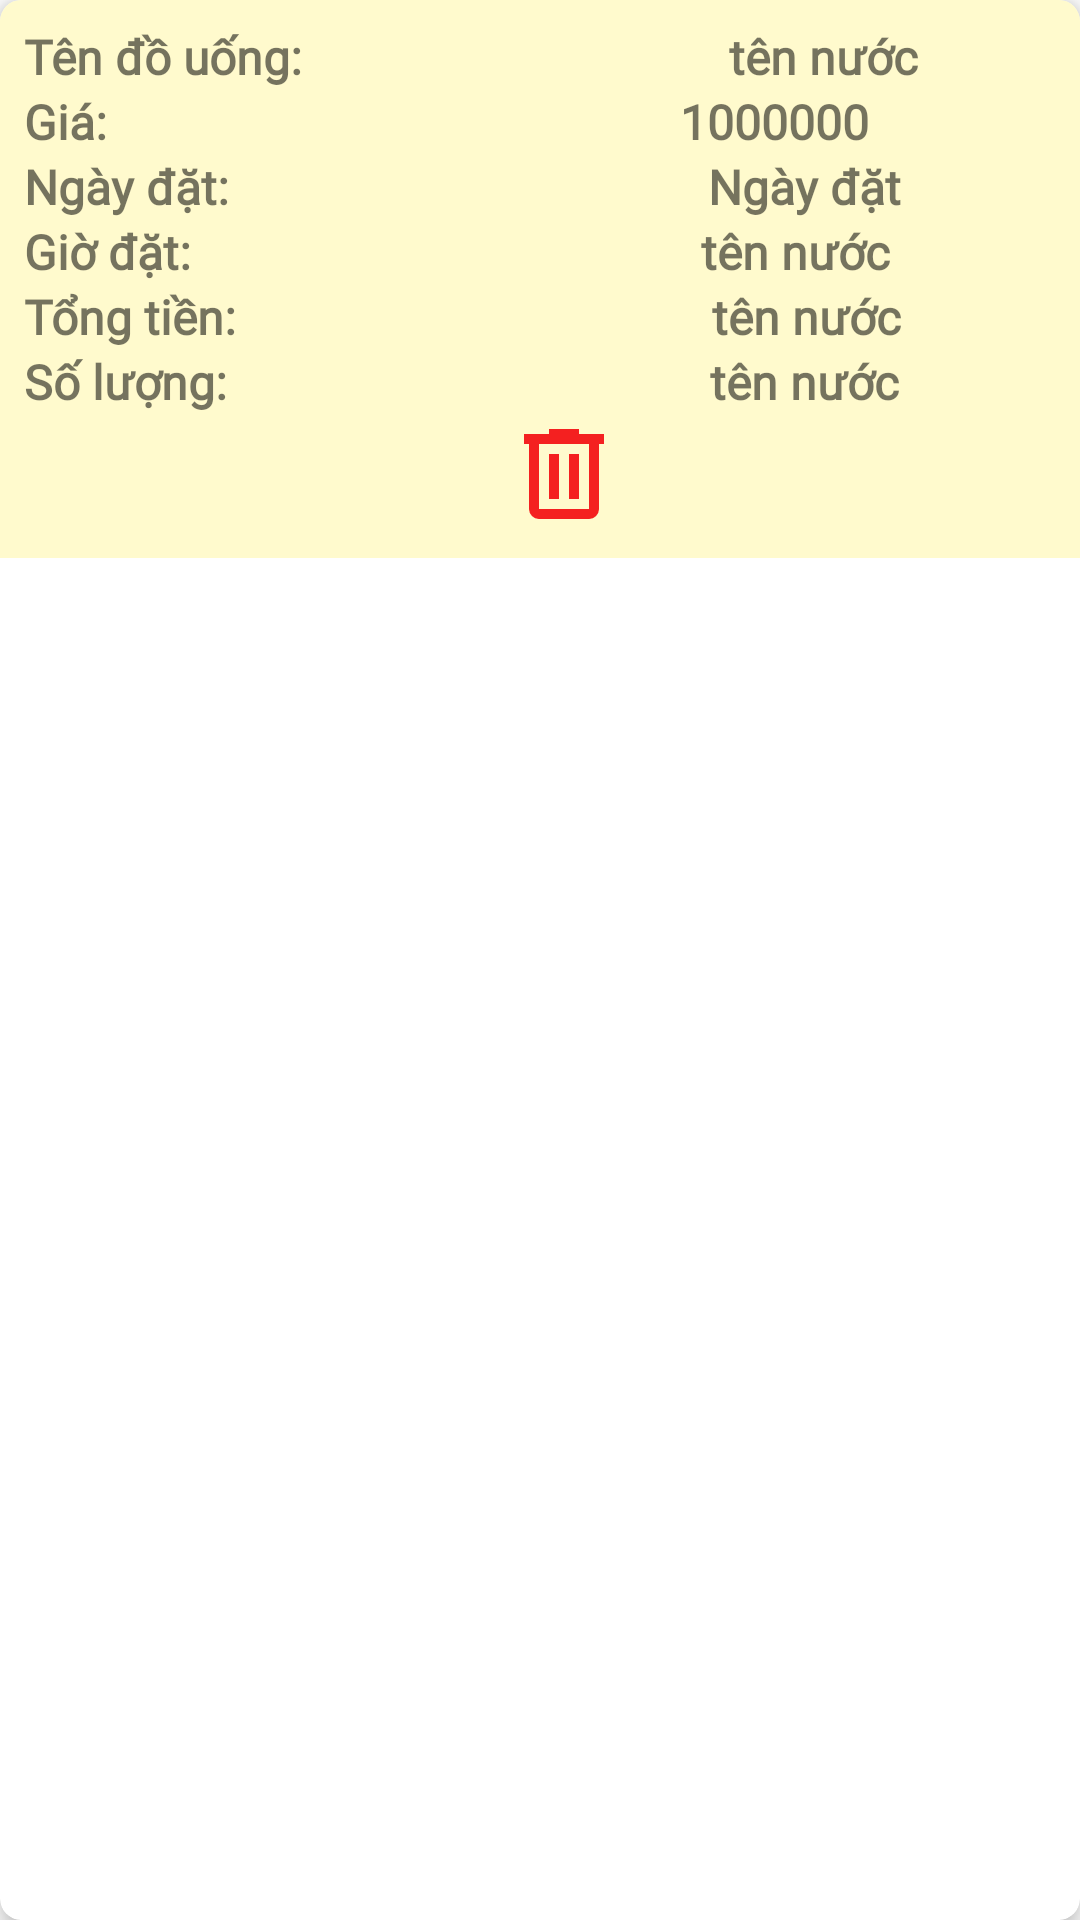

Where to tap for icons on this 1080px x 1920px app screen, as [x,y]:
delete: [564,474]
